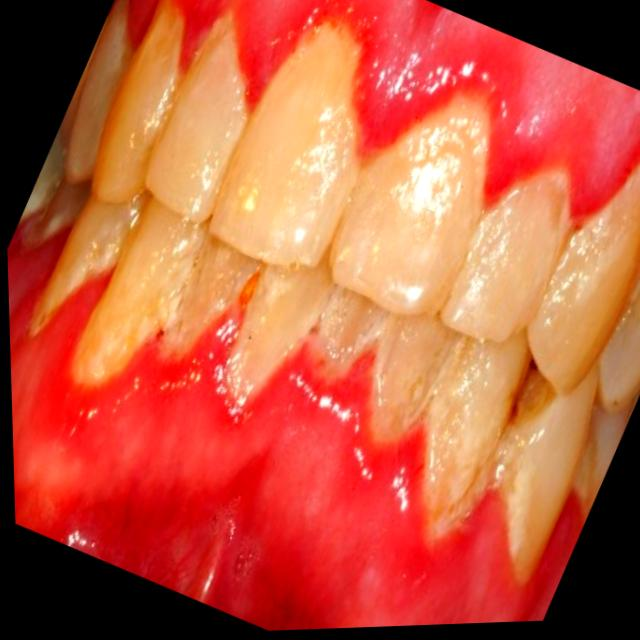gingivitis: (7, 235, 579, 629), (180, 0, 640, 221)
